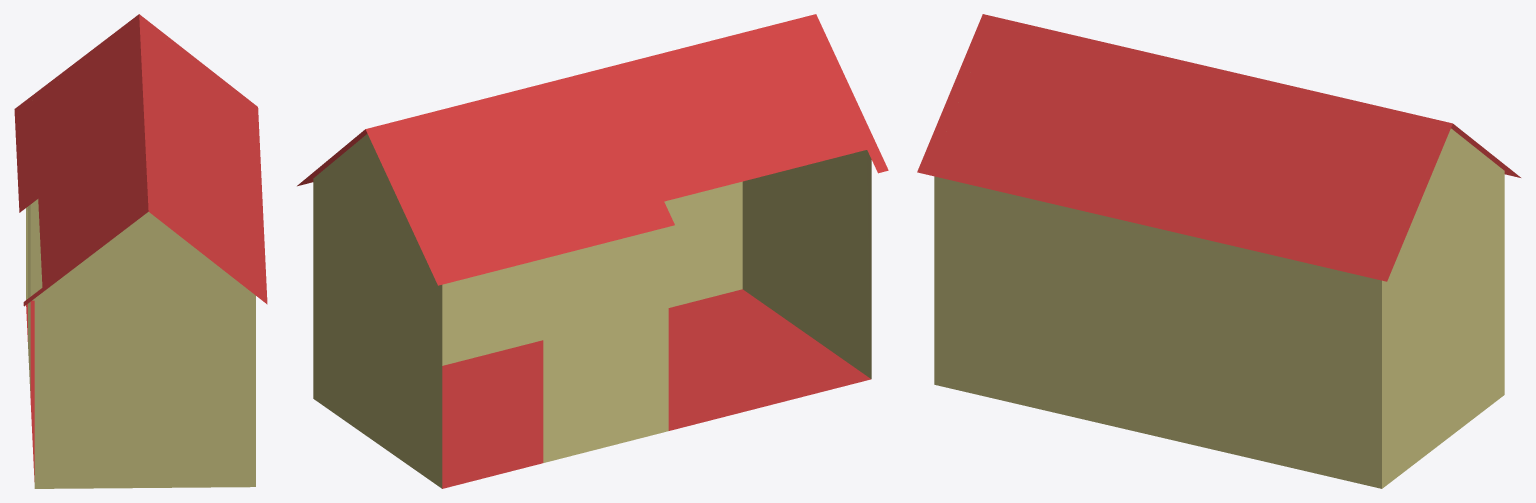
The picture shows the model from 3 angles, left to right: view 1: azimuth 30°, elevation 25°; view 2: azimuth 150°, elevation 25°; view 3: azimuth 270°, elevation 25°; orthographic projection. The views are drawn at different scales.
Bounding box in the file's own units: 19.67 × 23.61 × 13.89.
